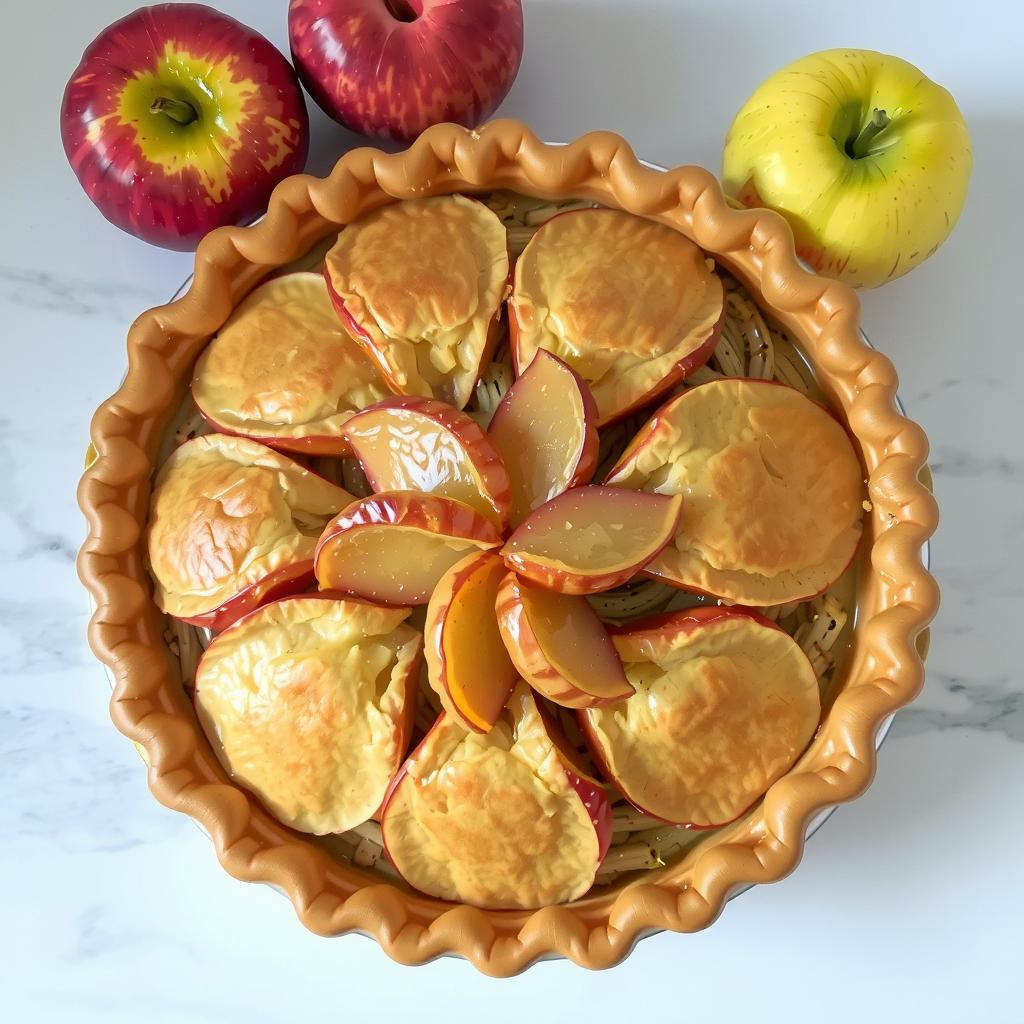pie: (66, 111, 951, 981)
